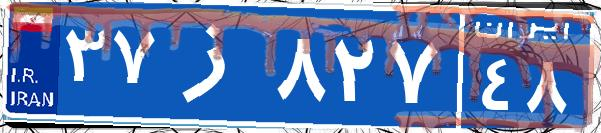2: (330, 28, 385, 110)
3: (57, 26, 110, 107)
4: (475, 38, 525, 113)
7: (385, 28, 445, 110), (110, 28, 158, 105)
8: (273, 28, 330, 110), (525, 38, 570, 115)
ز: (158, 15, 273, 115)
